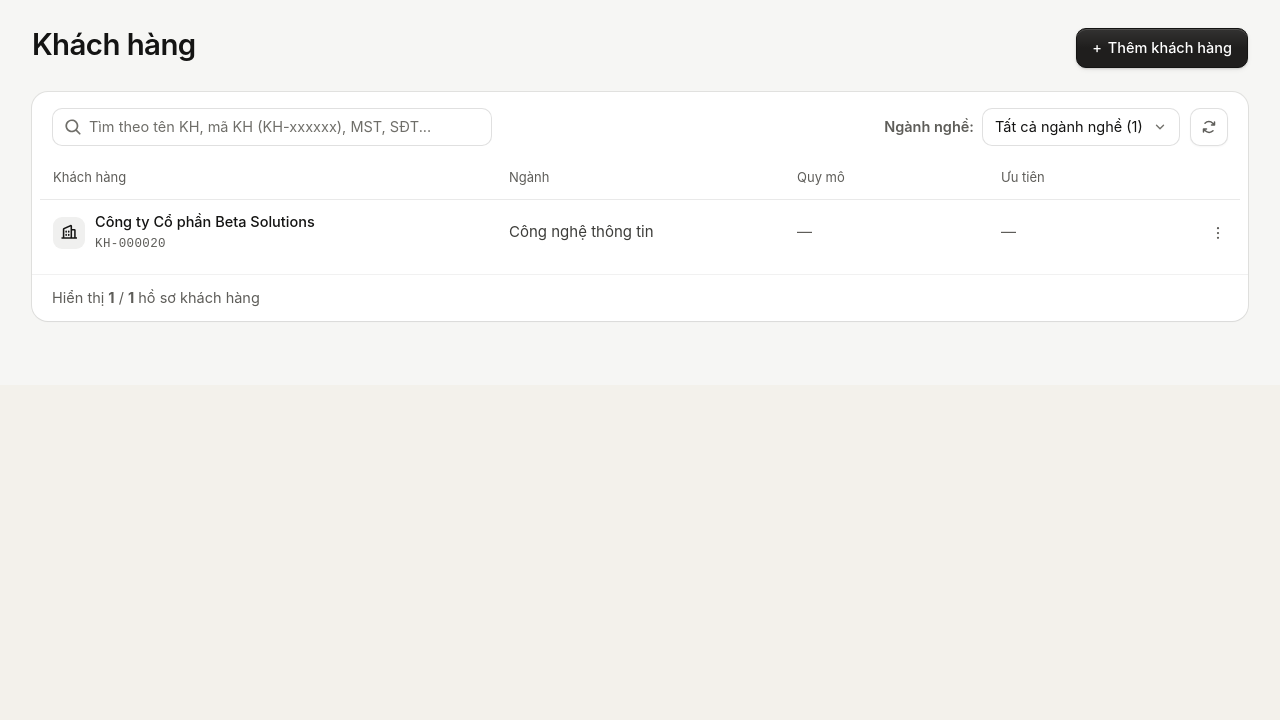
Test: Phân nhóm khách hàng theo ngành và quy mô (NCL-02-CN-005) › Tích hợp trang CustomerListPage › bấm nút "Phân nhóm" trên bảng danh sách -> mở trang chi tiết ngay tại tab Phân nhóm
The image size is (1280, 720).
# Thao tác nằm trong menu kebab (⋮) — mở menu của dòng rồi bấm "Phân nhóm".
Click the button named "Thao tác cho Công ty Cổ phần Beta Solutions": (1218, 232) [1202,216,1234,248]
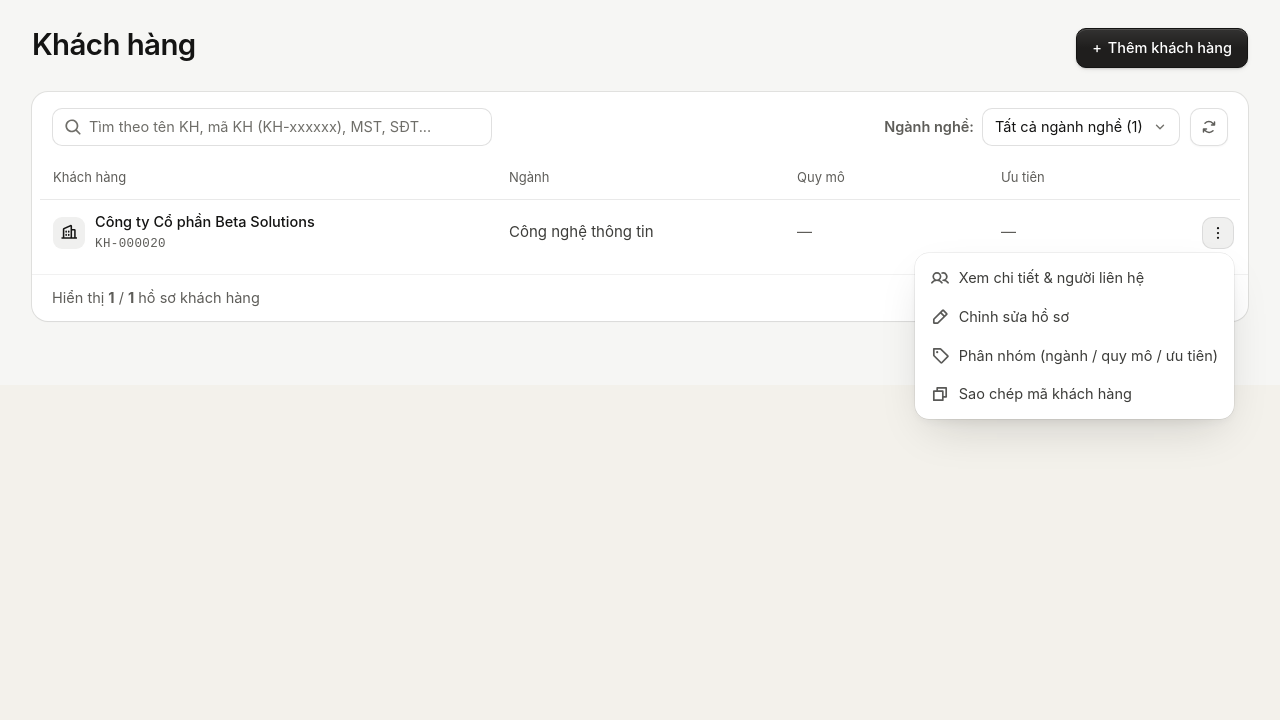
Click the menu item "Phân nhóm (ngành / quy mô / ưu tiên)": (1074, 355) [921,336,1228,374]
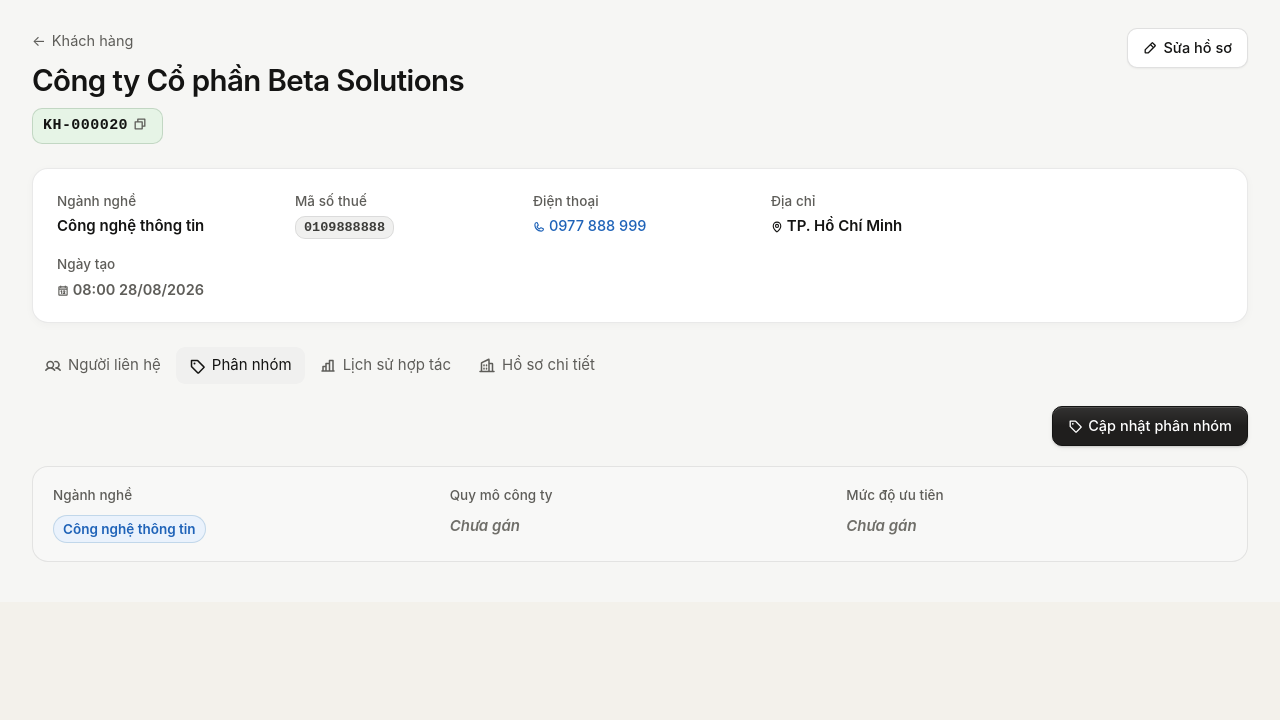
Result: the element with test id "customer-detail-page" is shown
Result: the element with test id "segment-manager-section" is shown at [32,406,1248,562]
